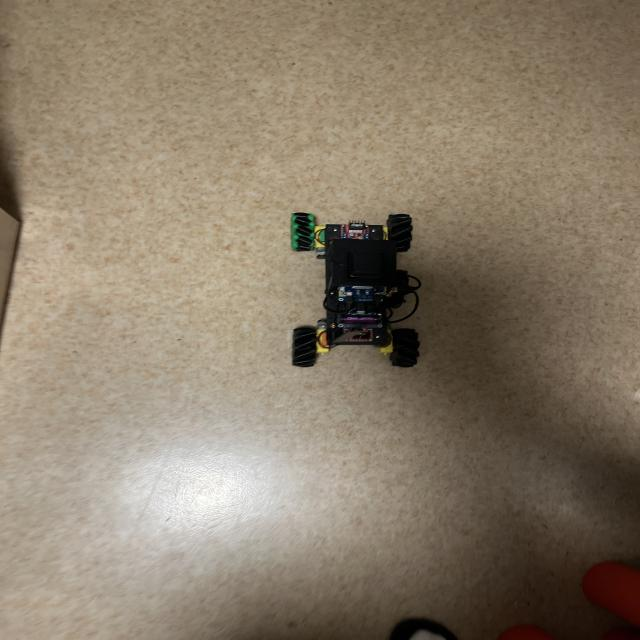robot: (291, 213, 419, 367)
